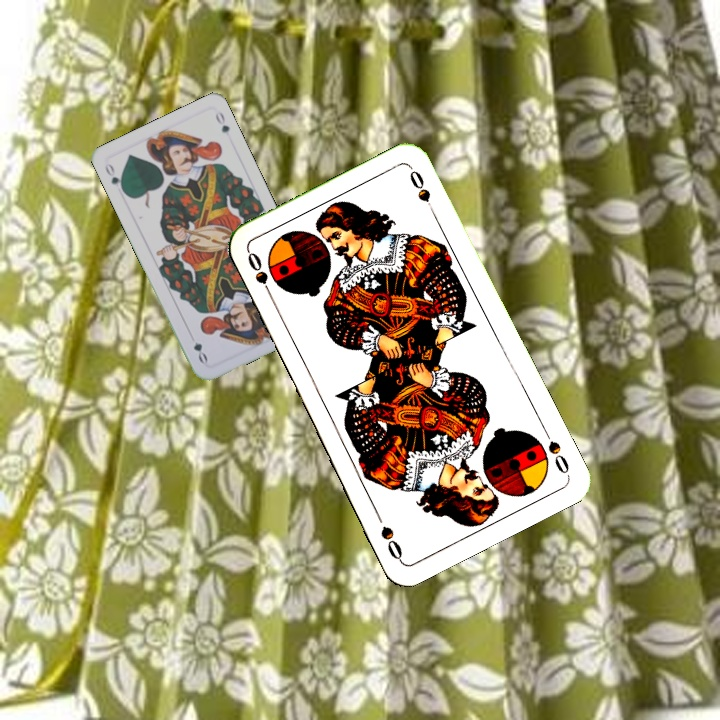GO: (101, 159, 127, 196)
SO: (538, 423, 572, 478), (243, 248, 276, 303)
